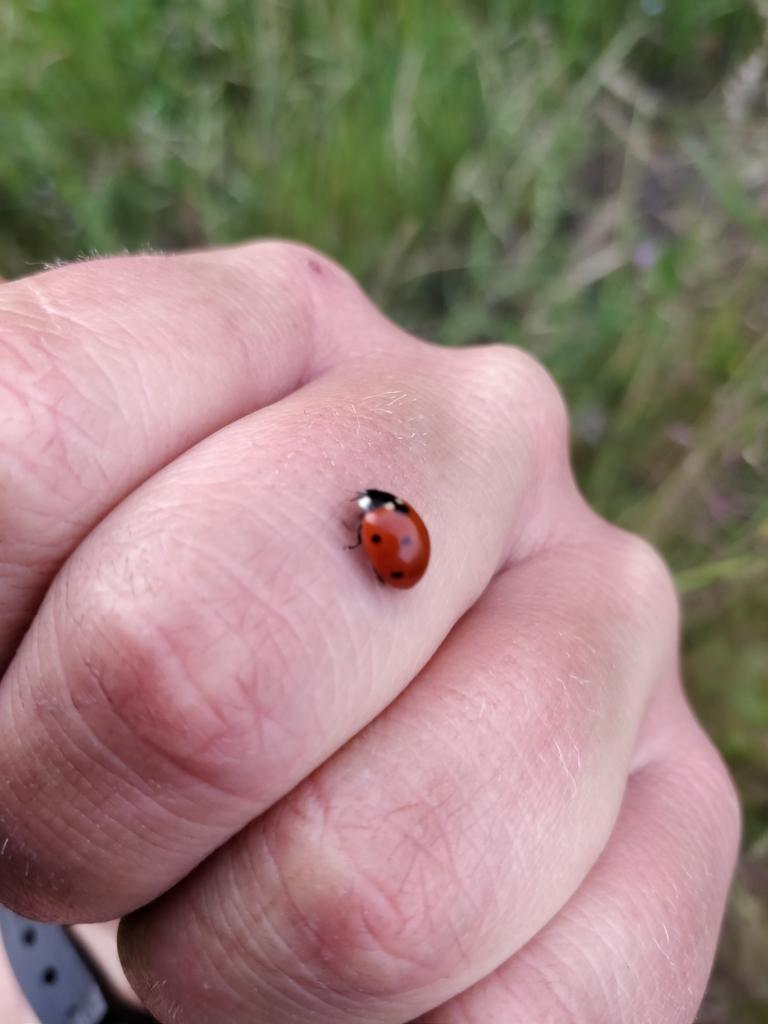ladybug: (339, 484, 439, 594)
